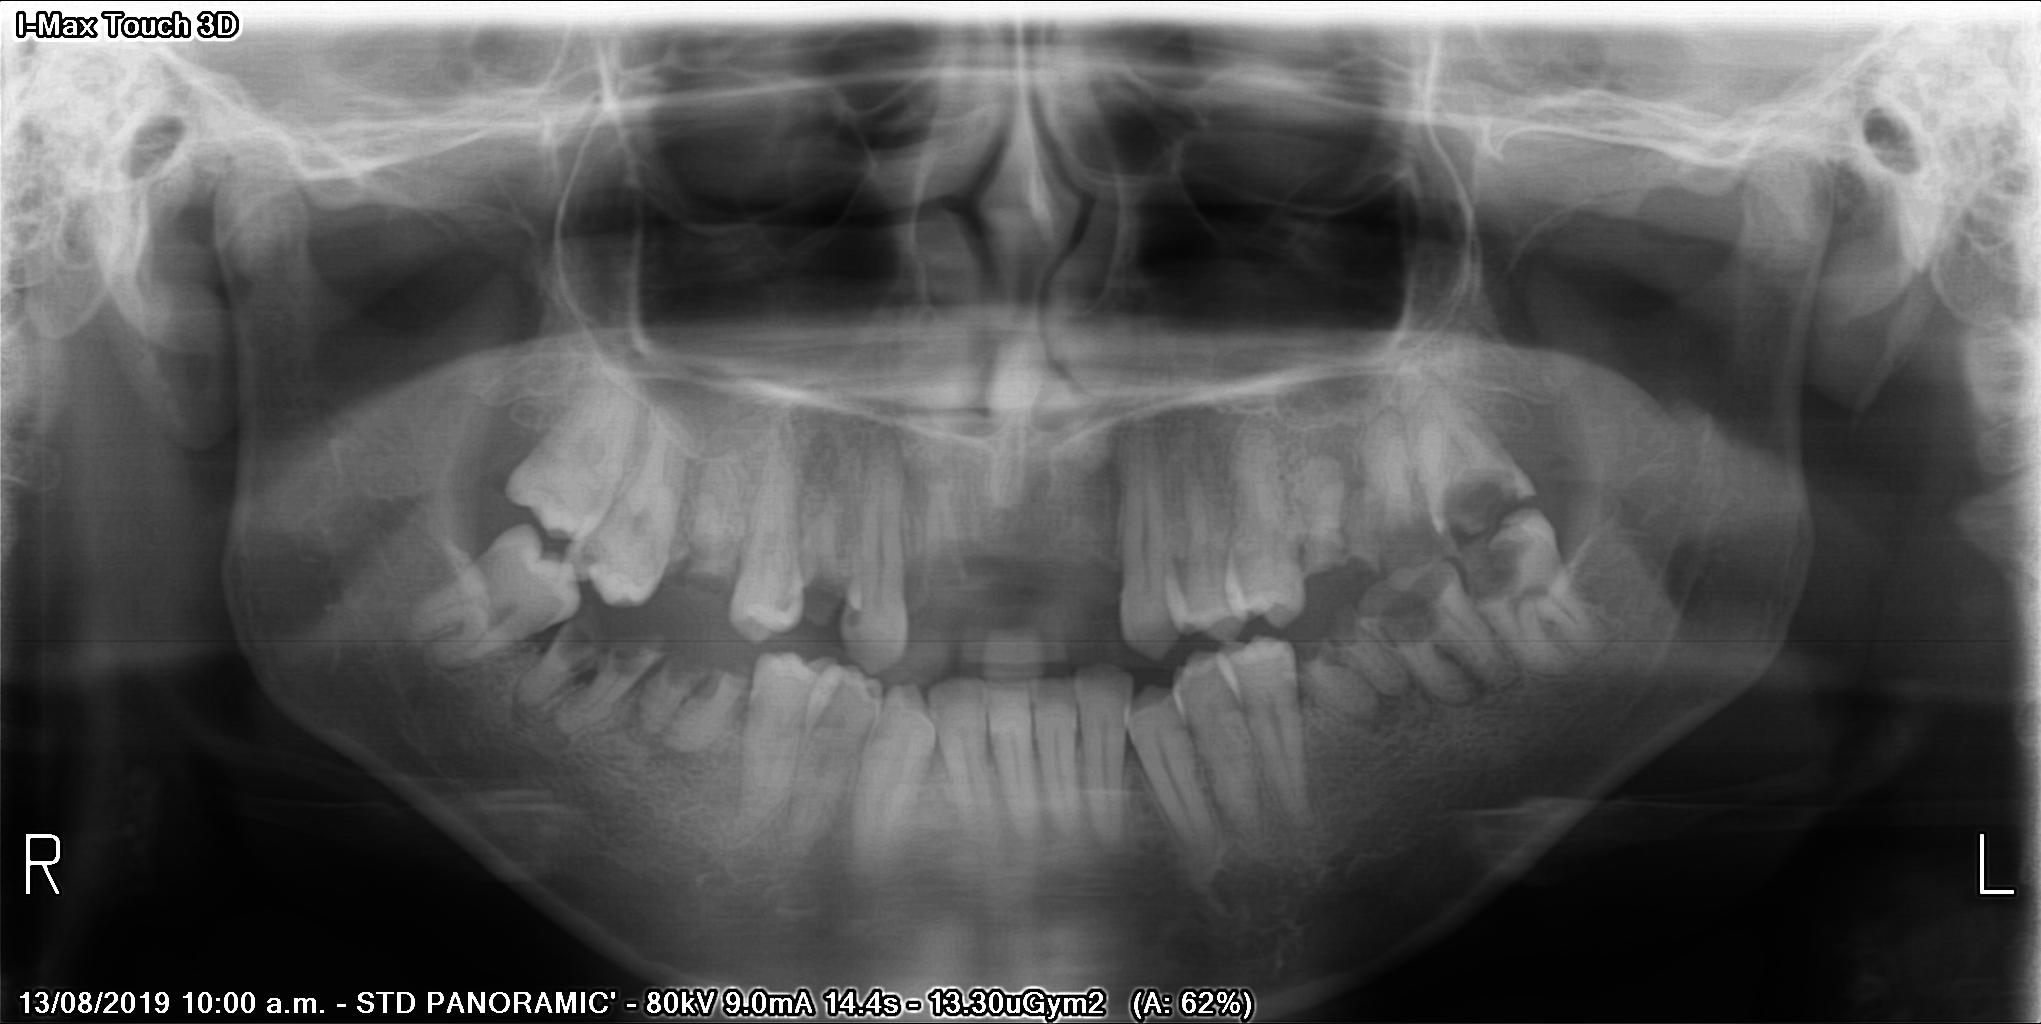Çürük Bölgesi: (1453, 534, 1543, 602), (1430, 468, 1513, 538), (1378, 589, 1448, 645), (576, 536, 615, 576), (609, 636, 649, 674), (659, 650, 697, 686), (564, 626, 599, 662), (689, 664, 726, 695), (834, 607, 861, 633)
